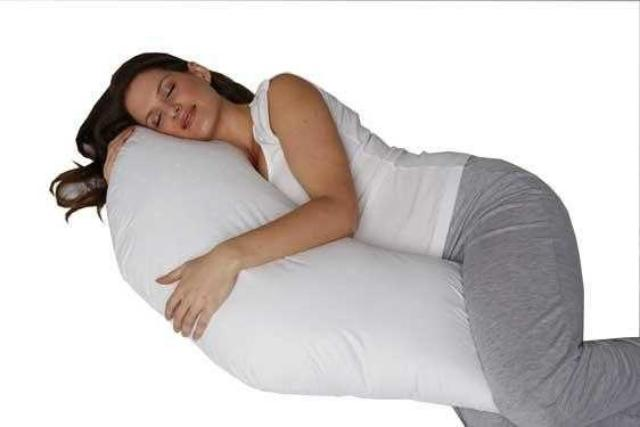pillow: (102, 122, 500, 411)
